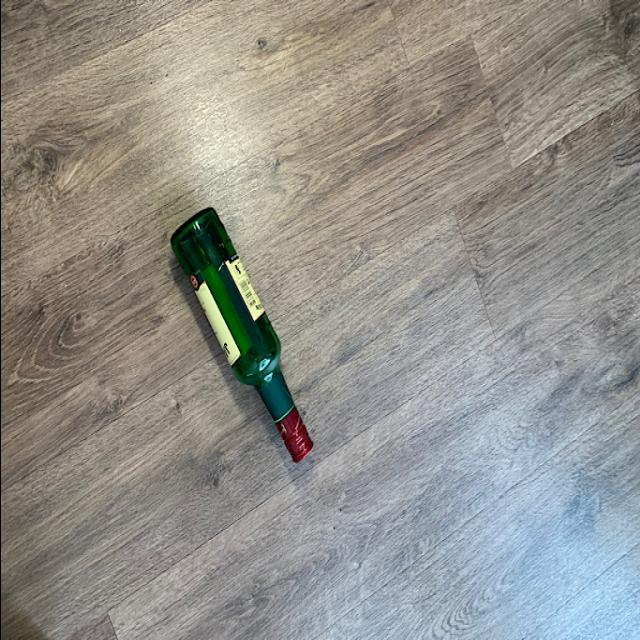litter: (172, 205, 314, 469)
